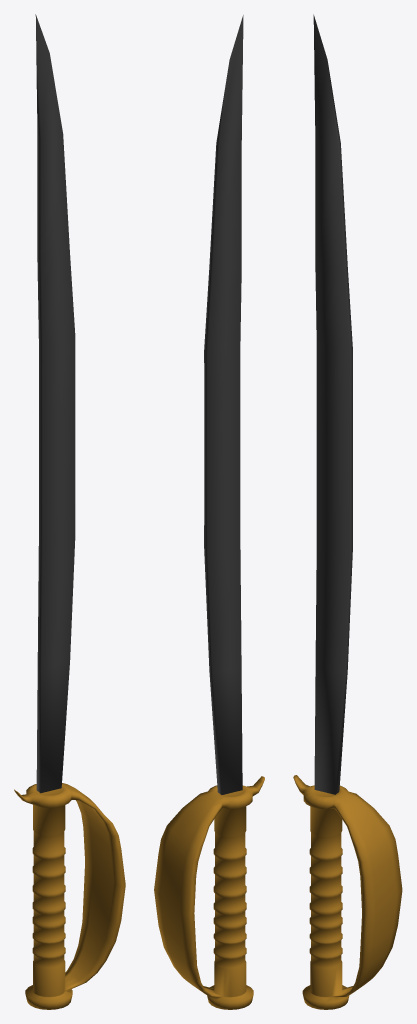
The model's file is Sword.FBX.
The picture shows the model from 3 angles, left to right: view 1: azimuth 30°, elevation 25°; view 2: azimuth 210°, elevation 25°; view 3: azimuth 330°, elevation 25°; orthographic projection.
Visible parts, largest first — view 1: Sword; view 2: Sword; view 3: Sword.
Boxes of the visible parts, x1,y1,x2,y2 form: Sword: (14, 14, 125, 1009); Sword: (154, 15, 264, 1009); Sword: (293, 14, 402, 1009).
Size of the model in its own units: 33.45 by 335 by 21.01.
